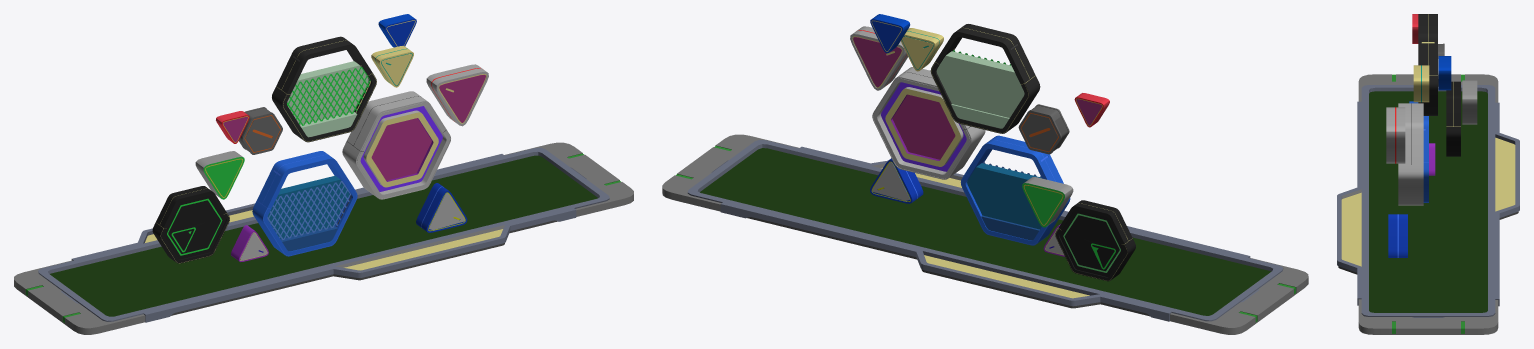
The model's file is W_O_Landmark_002_L0.fbx.
3 views of the same model, side by side, from view 1: azimuth 30°, elevation 25°; view 2: azimuth 150°, elevation 25°; view 3: azimuth 270°, elevation 25° (orthographic). The views are drawn at different scales.
Visible parts, largest first — view 1: W_O_Landmark_002_L0; view 2: W_O_Landmark_002_L0; view 3: W_O_Landmark_002_L0.
Part boxes in pixels (left/top/right/bottom): W_O_Landmark_002_L0: left=14, top=14, right=633, bottom=334; W_O_Landmark_002_L0: left=662, top=14, right=1308, bottom=334; W_O_Landmark_002_L0: left=1337, top=14, right=1519, bottom=334.
Size of the model in its own units: 11.42 by 3.85 by 3.47.
